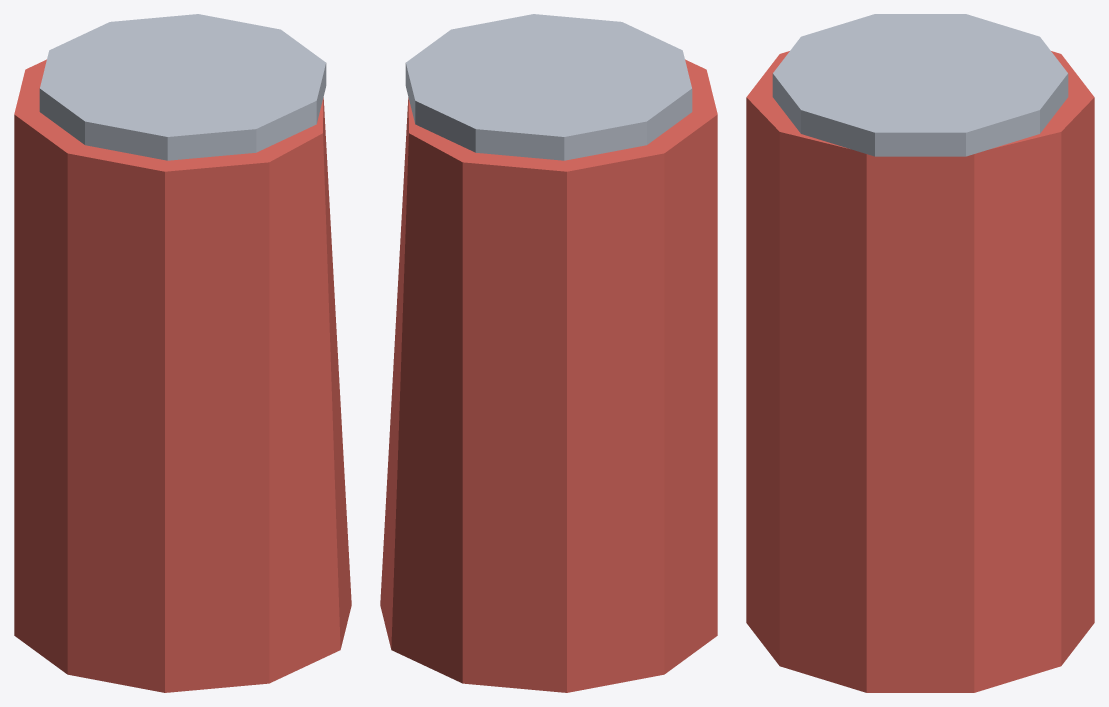
Rendered from Basura_Metal_Lata.fbx.
The picture shows the model from 3 angles, left to right: view 1: azimuth 30°, elevation 25°; view 2: azimuth 150°, elevation 25°; view 3: azimuth 270°, elevation 25°; orthographic projection.
Visible parts, largest first — view 1: Basura_Metal_Lata; view 2: Basura_Metal_Lata; view 3: Basura_Metal_Lata.
Part boxes in pixels (bbox=[...]): Basura_Metal_Lata: bbox=[14, 14, 351, 692]; Basura_Metal_Lata: bbox=[380, 14, 717, 692]; Basura_Metal_Lata: bbox=[746, 14, 1094, 692].
Size of the model in its own units: 0.6277 by 1.15 by 0.66.
Materials: 1 (1 with a texture image).
